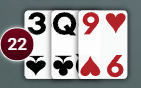3: (24, 10, 50, 38)
9: (78, 10, 103, 39)
q: (51, 10, 78, 38)
